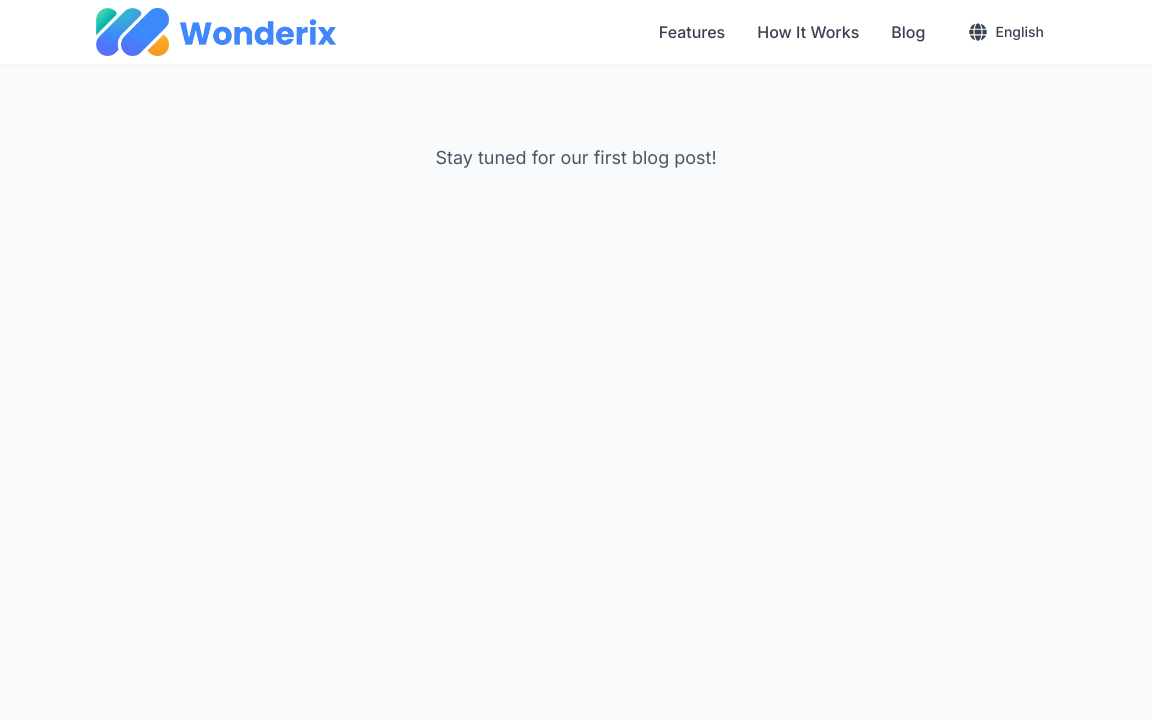
Test: App Integration Tests › navigates from blog to home via logo click
The width and height of the screenshot is (1152, 720).
Expected: the text "Stay tuned for our first blog post!" is shown, [435, 147, 717, 168]
Click the button "Features": point(692, 32) [659, 20, 725, 44]
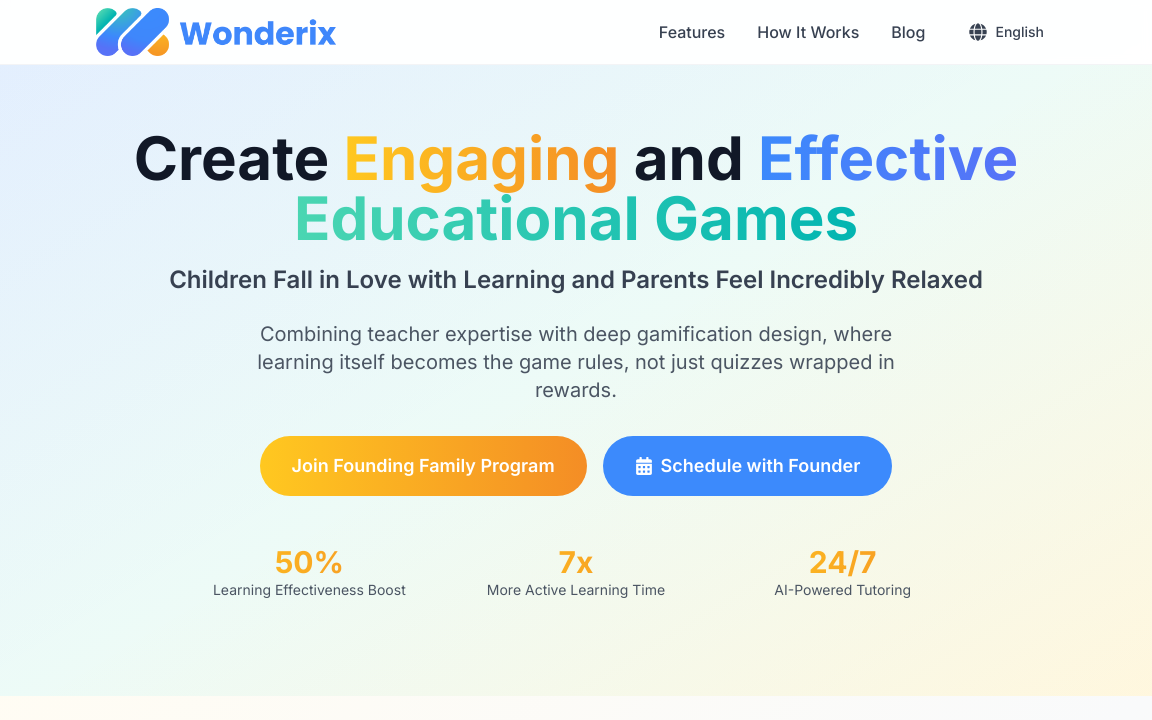
Expected: the text "Engaging" is shown, [344, 122, 620, 194]
